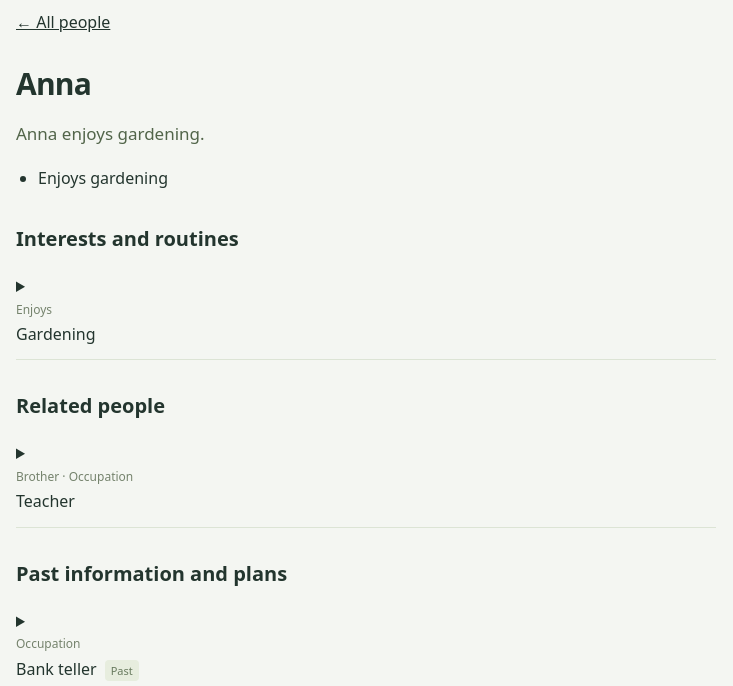
Test case: saves and removes an individual fact using the current profile version
The image size is (733, 686).
Expected: the heading "Anna" is shown, 16,63 -> 91,104
Click the text "Gardening".
click(56, 334)  # box 16,323 -> 96,345
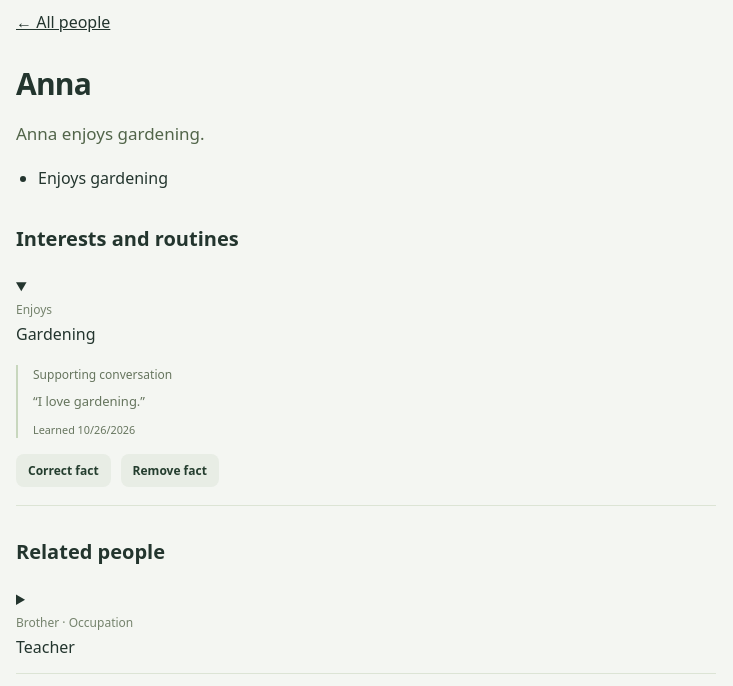
Click the button "Correct fact".
click(63, 471)  # box 16,454 -> 111,487
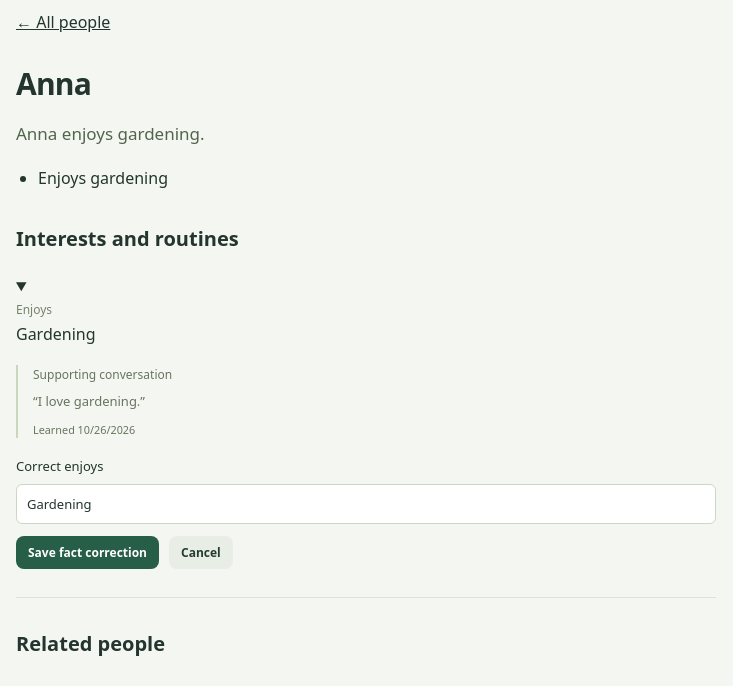
Replace the text in the field labelled "Correct enjoys" with "Cooking" at (366, 504), box 16,484 -> 716,524
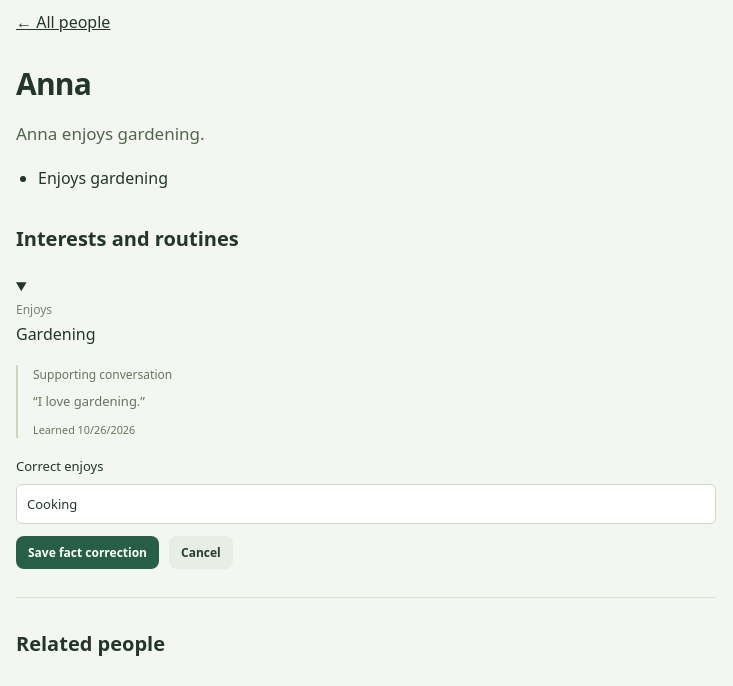
Click the button "Save fact correction".
click(88, 553)  # box 16,536 -> 159,569
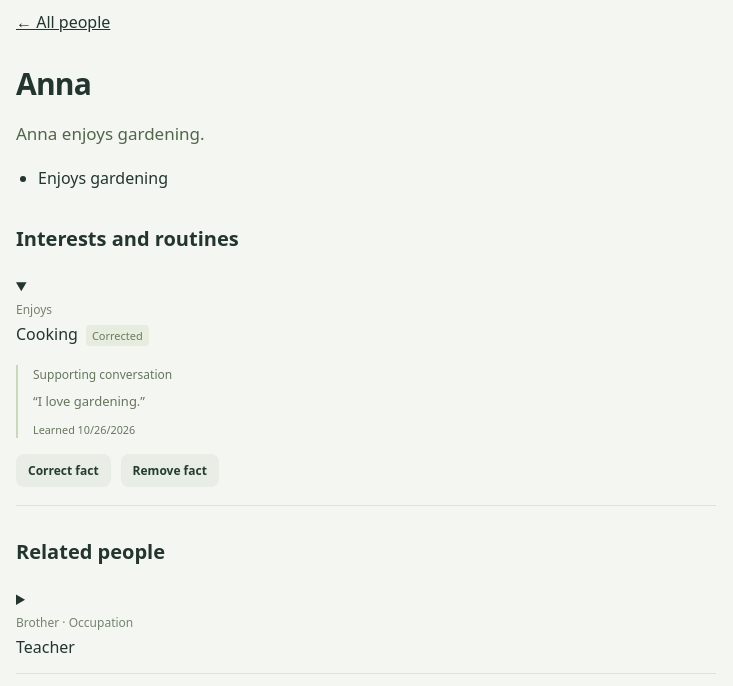
Click the button "Remove fact".
click(170, 471)  # box 121,454 -> 219,487
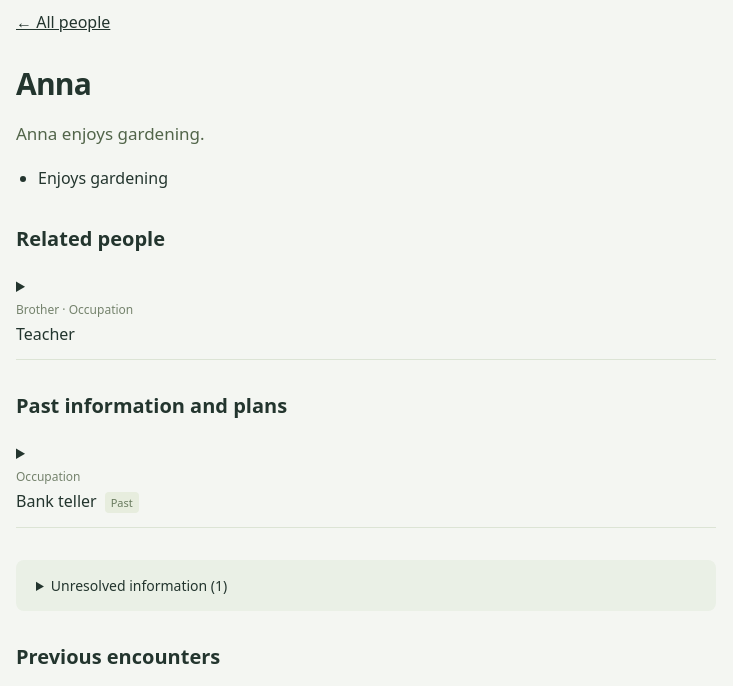
Expected: the heading "Cooking" is gone
